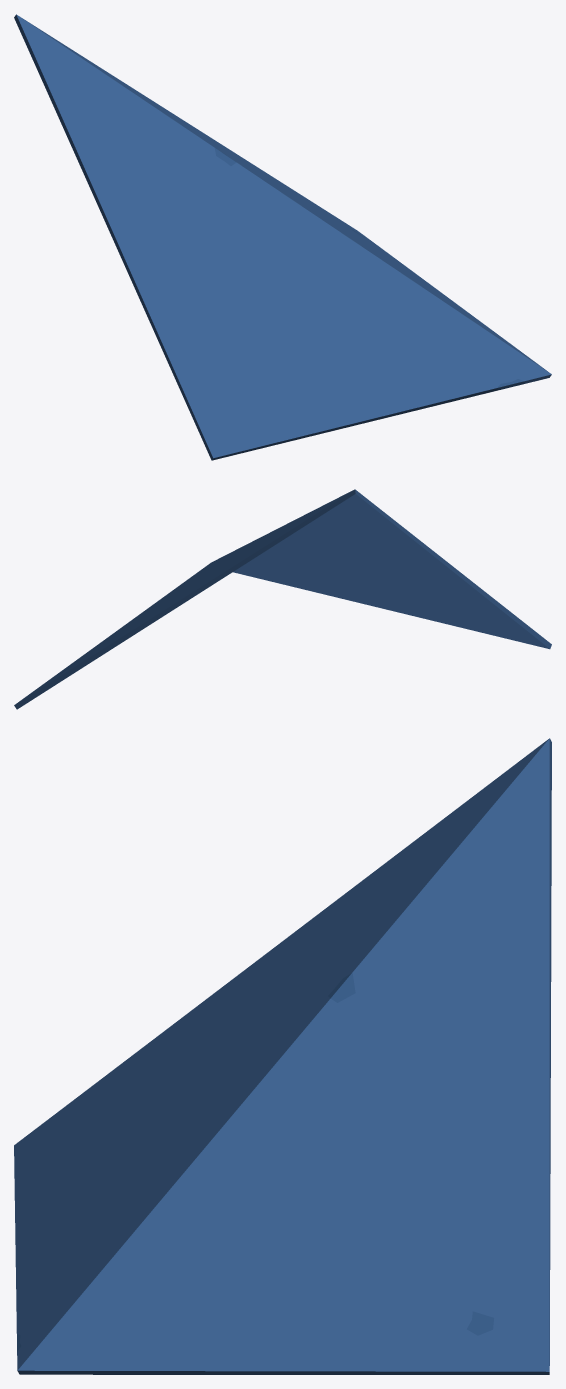
Rendered from Roof_05.fbx.
3 renders of one model, top to bottom at view 1: azimuth 30°, elevation 25°; view 2: azimuth 150°, elevation 25°; view 3: azimuth 270°, elevation 25°, orthographic. The views are drawn at different scales.
Parts seen in each view (by area): view 1: Roof_05_LOD0; view 2: Roof_05_LOD0; view 3: Roof_05_LOD0.
Boxes of the visible parts, <box> form: Roof_05_LOD0: <box>14,14,551,460</box>; Roof_05_LOD0: <box>14,489,551,709</box>; Roof_05_LOD0: <box>14,738,551,1374</box>.
Size of what is drawn, in the model's own units: 597 by 505 by 597.
